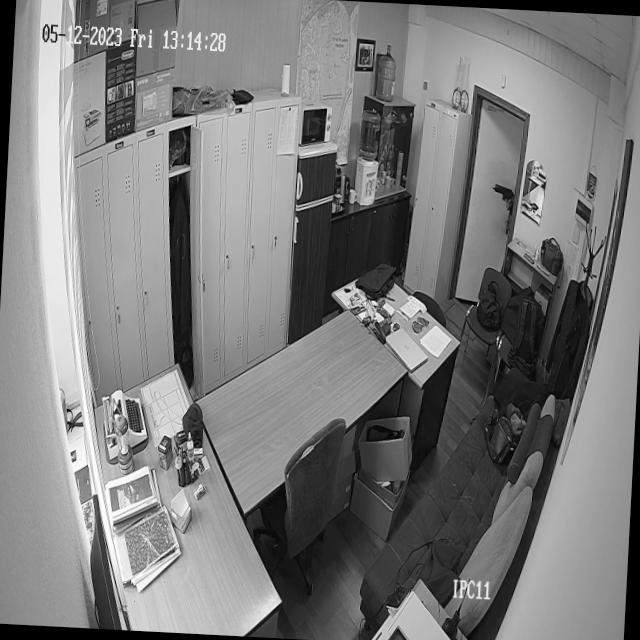gun: (492, 178, 516, 208)
